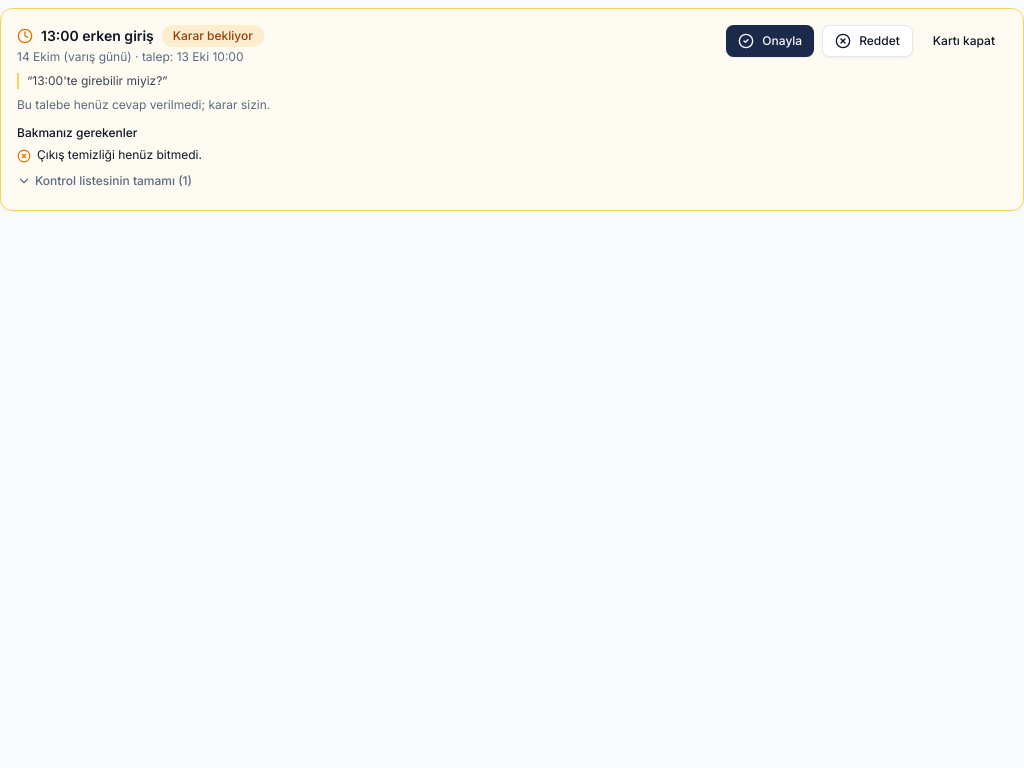
Test: karar paneli — yapay zekâ taslağı ve metin denetimi › gönderimde uyuşmazlık → uyarı listesi + 'Yine de gönder' force ile gönderir
The width and height of the screenshot is (1024, 768).
Later steps or results of the test are not shown.
Click the button "Reddet" at (868, 41), box x1=822 y1=25 x2=913 y2=57
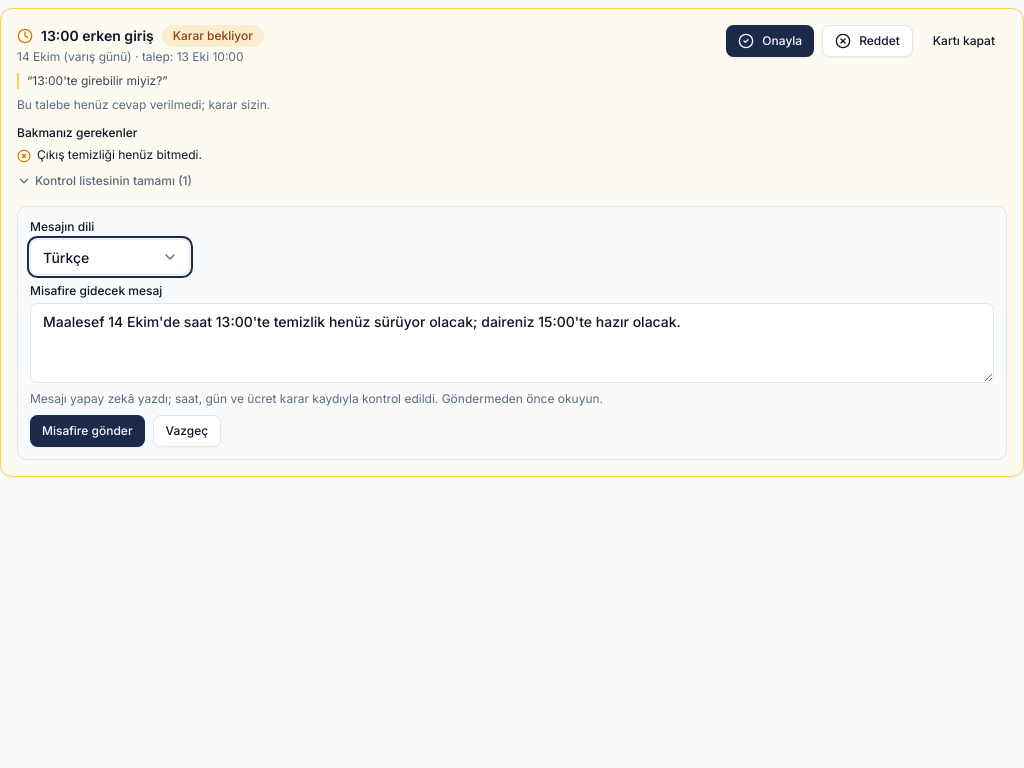
Now the text box labelled "Misafire gidecek mesaj" holds "Maalesef 14 Ekim'de saat 13:00'te temizlik henüz sürüyor olacak; daireniz 15:00'te hazır olacak.", box x1=30 y1=303 x2=994 y2=383
Click the button "Misafire gönder" at (87, 431), box x1=30 y1=415 x2=144 y2=447
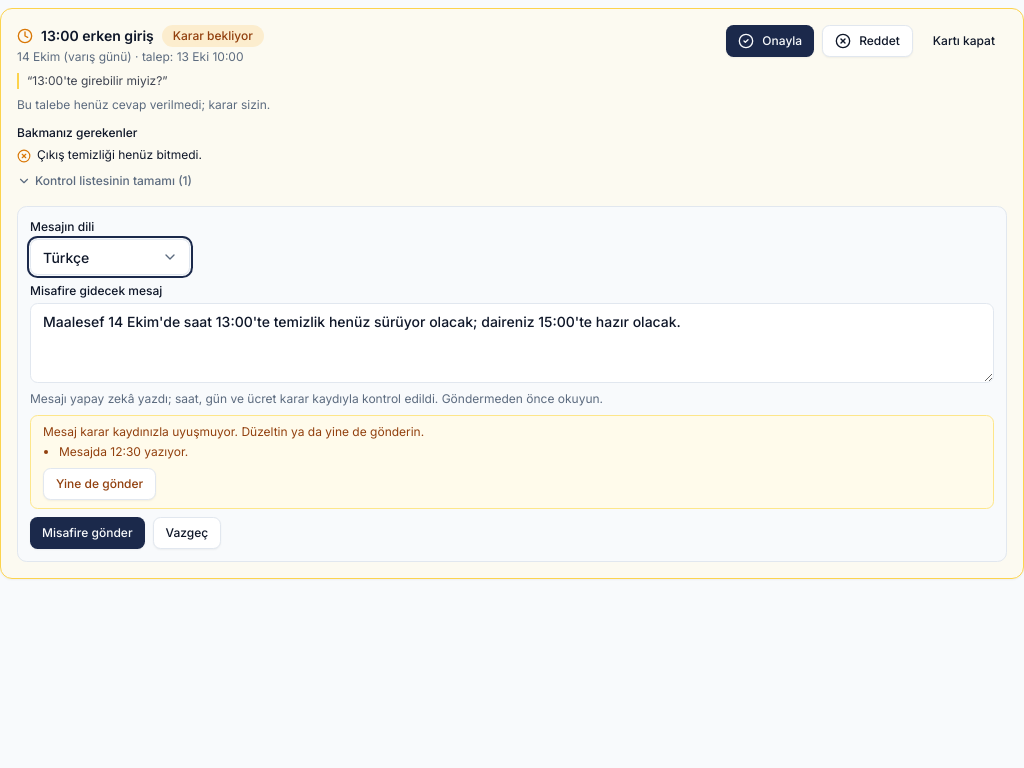
Now the list item "Mesajda 12:30 yazıyor." is shown, box x1=59 y1=444 x2=188 y2=459
